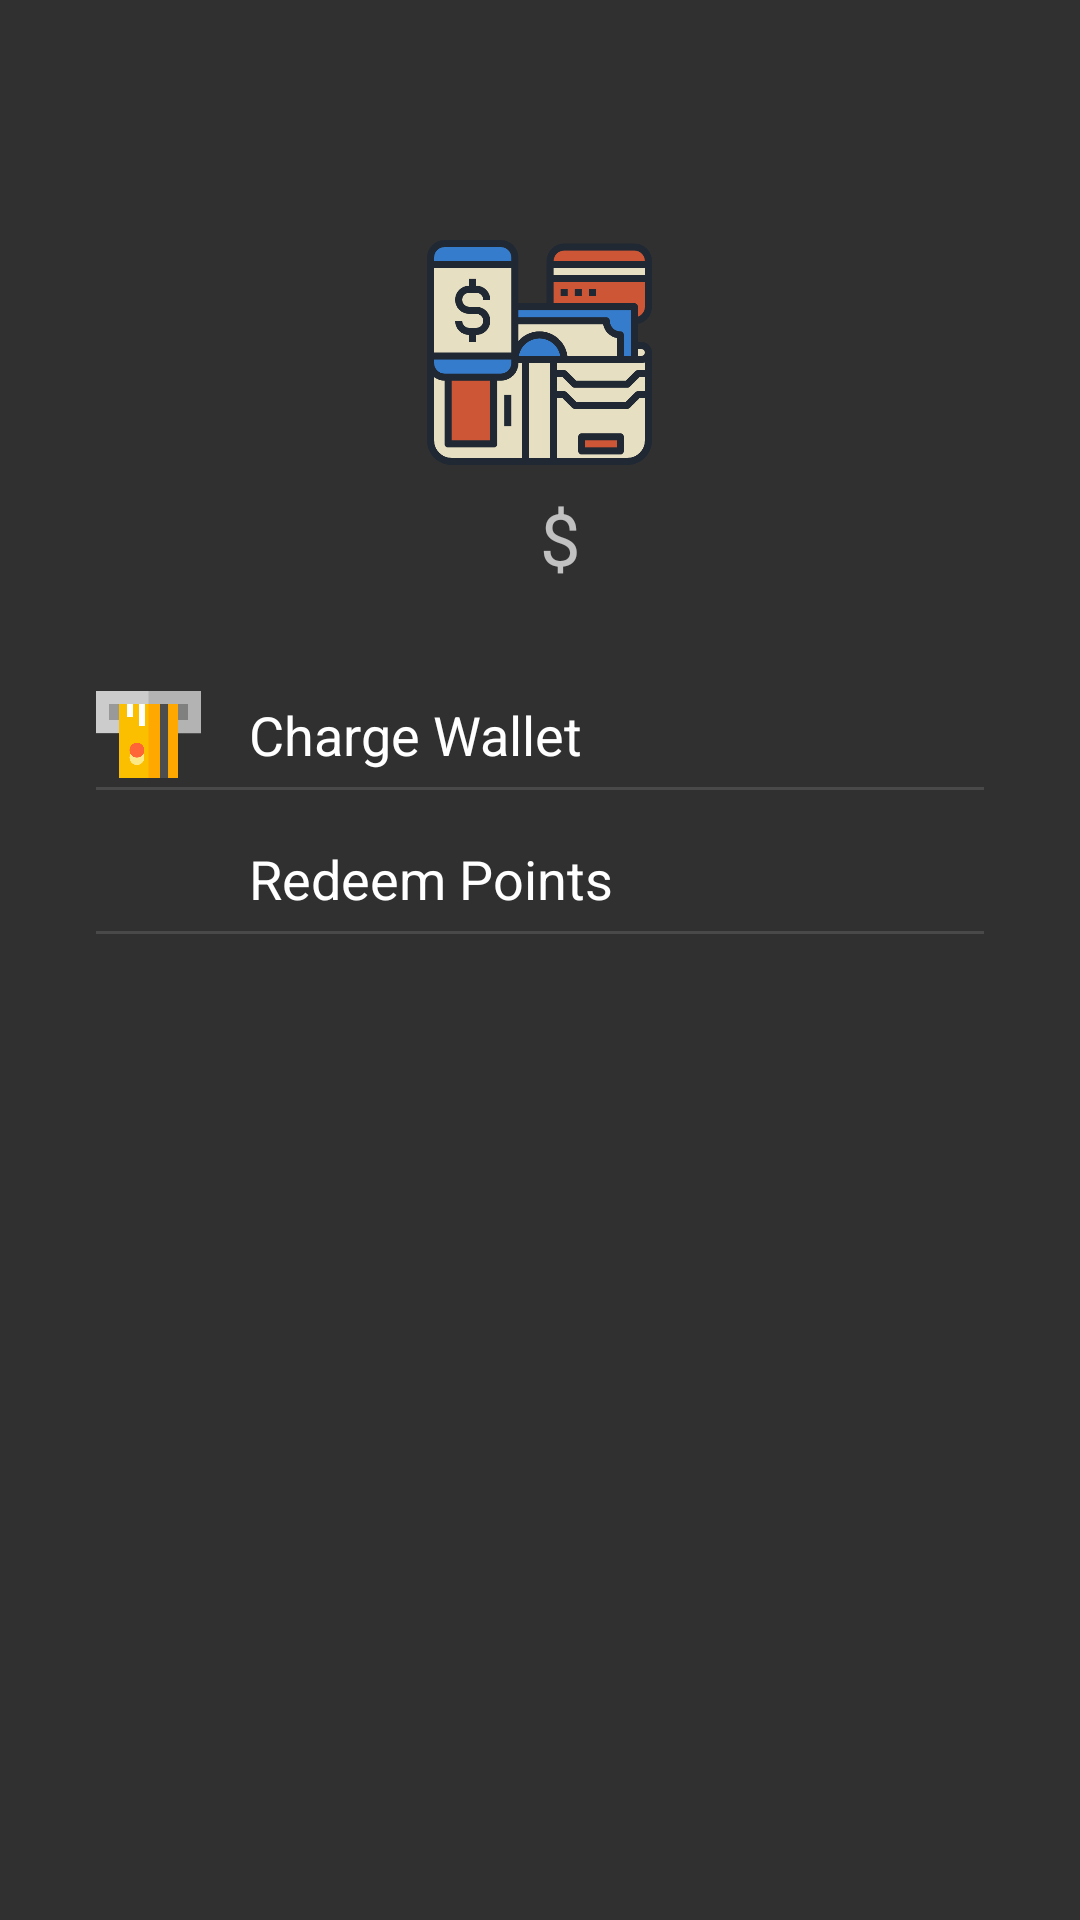

Icon click points for this 1080x1920 phone screenshot, format (x=x, y=y):
wallet picture: (x=539, y=352)
